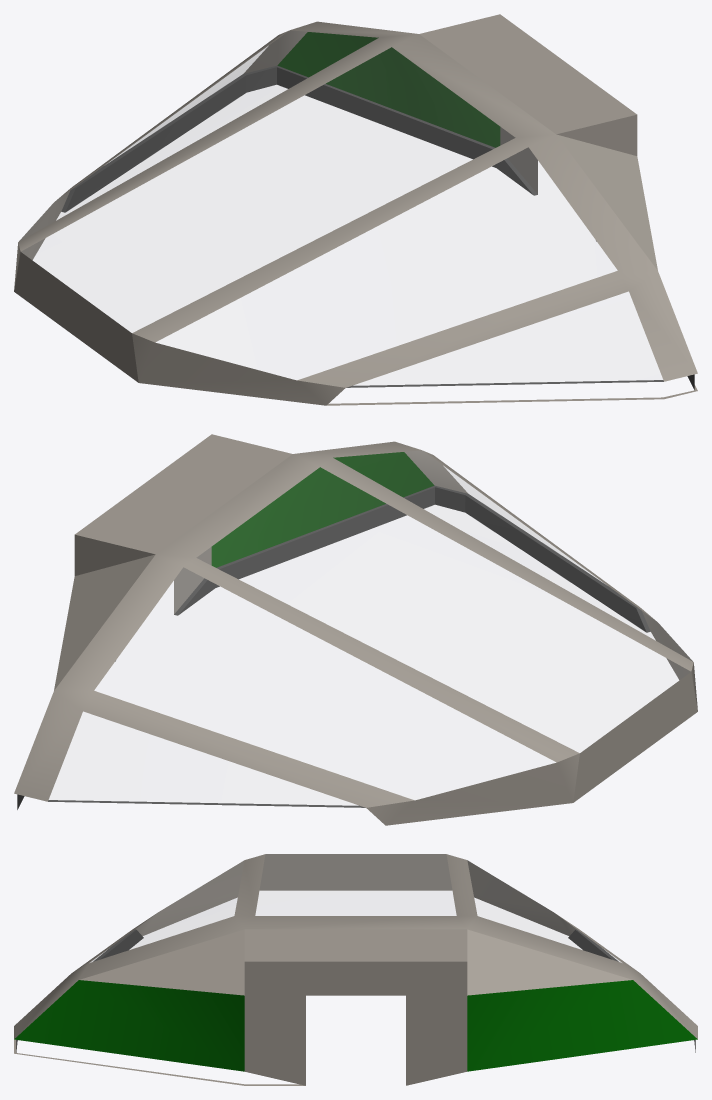
File: StarDeck_Walls_Mesh.fbx
3 views of the same model, one above another, from view 1: azimuth 30°, elevation 25°; view 2: azimuth 150°, elevation 25°; view 3: azimuth 270°, elevation 25° (orthographic). The views are drawn at different scales.
Visible parts, largest first — view 1: StarDeck_Walls_Mesh; view 2: StarDeck_Walls_Mesh; view 3: StarDeck_Walls_Mesh.
Boxes of the visible parts, x1,y1,x2,y2 form: StarDeck_Walls_Mesh: (14,14,697,405); StarDeck_Walls_Mesh: (14,434,697,825); StarDeck_Walls_Mesh: (14,854,697,1085).
Size of the model in its own units: 3709 by 1100 by 5489.
